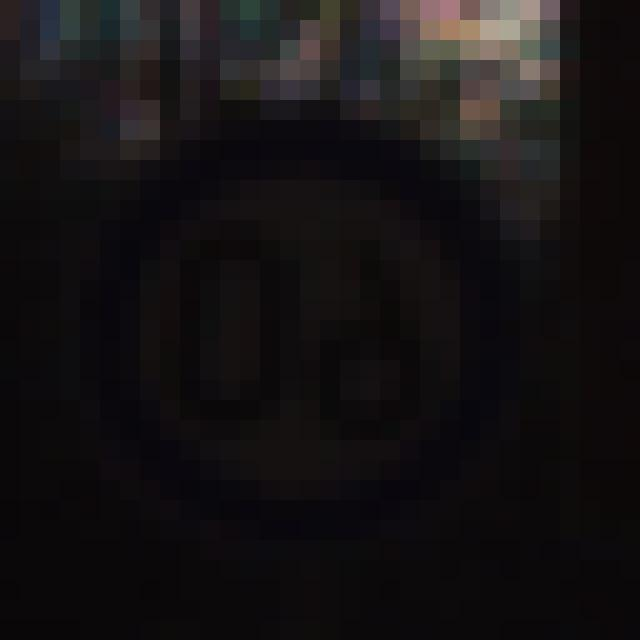SPEED-LIMIT-60: (88, 100, 526, 507)
